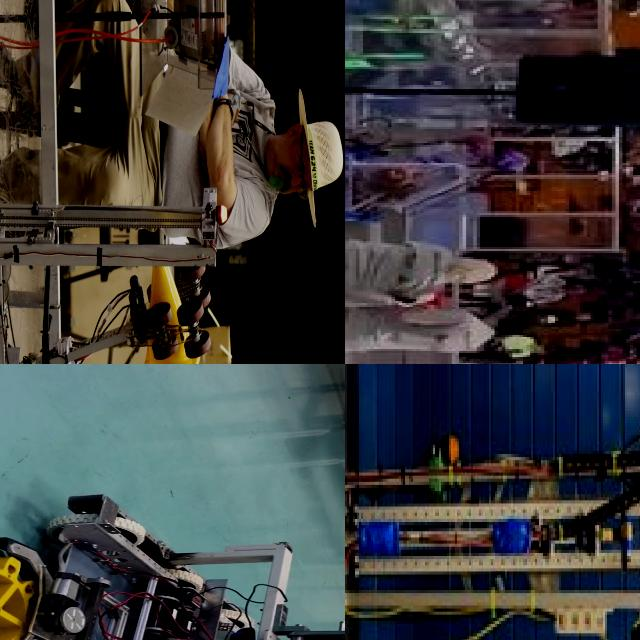FRC-Robots: (345, 364, 640, 640), (0, 49, 237, 364), (0, 483, 345, 640), (345, 157, 495, 221)
